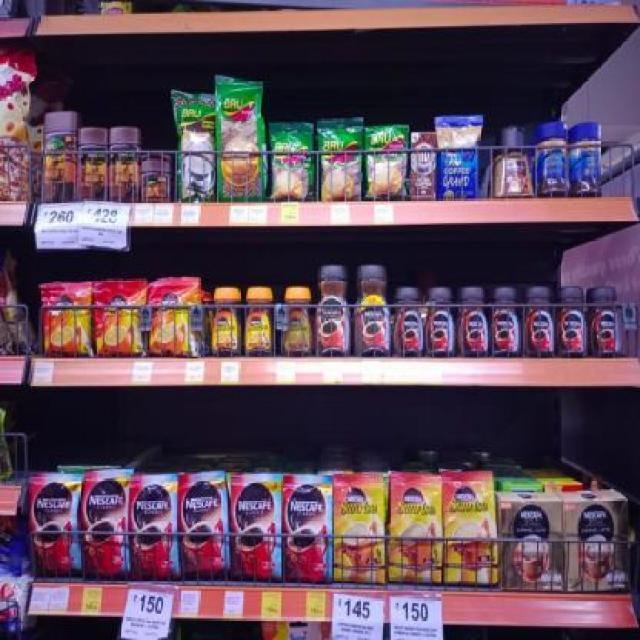Coffee: (443, 475, 497, 585), (390, 475, 442, 584), (334, 475, 386, 582), (178, 475, 230, 578), (231, 476, 281, 580), (284, 477, 332, 584), (130, 478, 179, 578), (82, 477, 130, 578), (31, 480, 81, 576), (354, 264, 392, 358), (313, 265, 350, 356), (96, 283, 143, 354), (149, 283, 196, 354), (44, 286, 90, 354), (587, 287, 621, 358), (556, 286, 588, 358), (522, 288, 553, 357), (210, 289, 241, 358), (394, 287, 424, 357), (460, 290, 488, 359), (426, 288, 454, 356), (283, 289, 312, 354), (493, 288, 520, 357), (245, 288, 272, 355)
